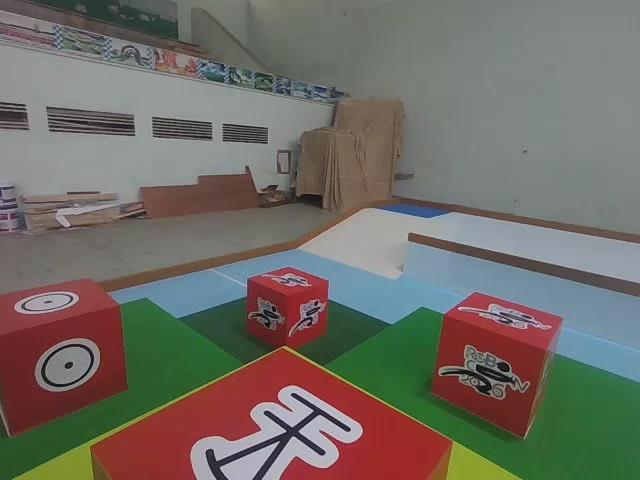R1: (431, 290, 564, 439), (245, 265, 330, 348)
R2 Real: (85, 343, 455, 480), (0, 277, 126, 437)
